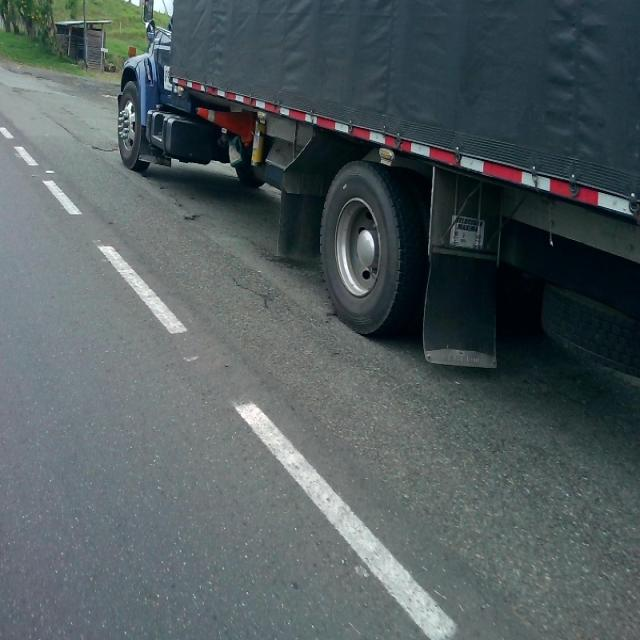DITCH: (1, 62, 638, 638)
